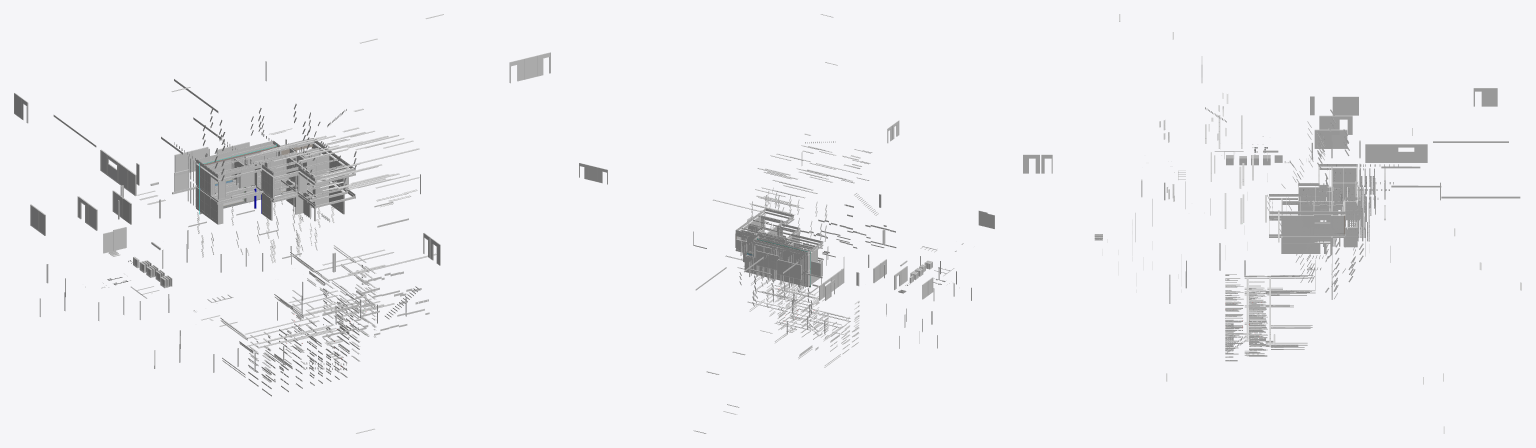
File: casa-lsf.glb
3 views of the same model, side by side, from view 1: azimuth 30°, elevation 25°; view 2: azimuth 150°, elevation 25°; view 3: azimuth 270°, elevation 25° (orthographic). The views are drawn at different scales.
Parts seen in each view (by area): view 1: Node1, Node2; view 2: Node1; view 3: Node1.
Boxes of the visible parts, left/top/right/bottom form: Node1: left=14, top=14, right=550, bottom=433; Node2: left=107, top=116, right=419, bottom=378; Node1: left=579, top=14, right=994, bottom=433; Node1: left=1023, top=14, right=1521, bottom=433.
Size of the model in its own units: 2684 by 2276 by 2495.
2 materials, 2 textured.
